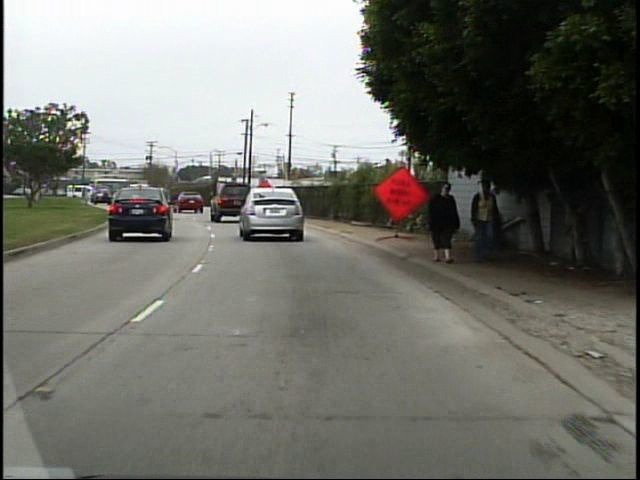person: (463, 173, 502, 267), (421, 179, 461, 264)
